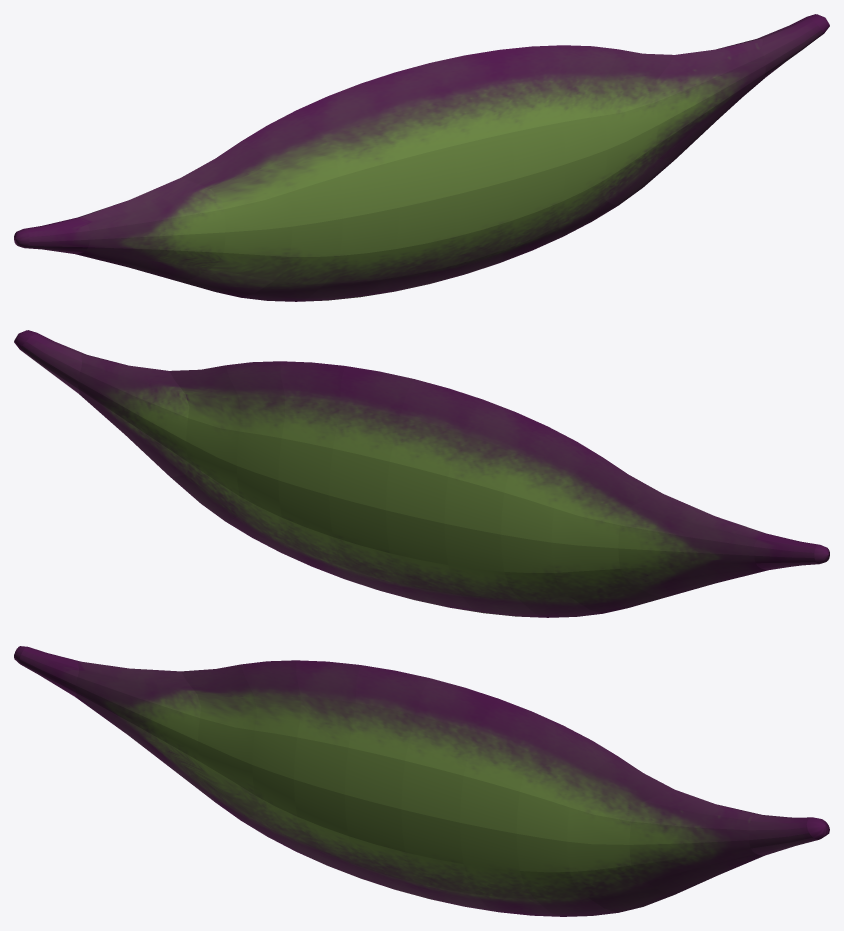
File: Bataw.glb
The picture shows the model from 3 angles, top to bottom: view 1: azimuth 30°, elevation 25°; view 2: azimuth 150°, elevation 25°; view 3: azimuth 330°, elevation 25°; orthographic projection.
Visible parts, largest first — view 1: Bataw Low; view 2: Bataw Low; view 3: Bataw Low.
Part boxes in pixels (x1=…): Bataw Low: x1=14, y1=14, x2=829, y2=301; Bataw Low: x1=14, y1=330, x2=829, y2=617; Bataw Low: x1=14, y1=646, x2=829, y2=916.
Size of the model in its own units: 0.8439 by 0.2194 by 0.1019.
1 material, 1 textured.
